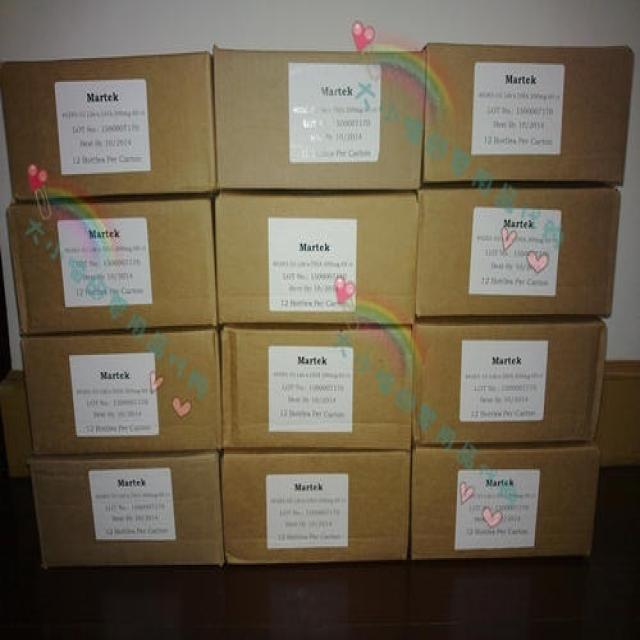box: (0, 53, 218, 201), (212, 46, 426, 189), (420, 43, 635, 184), (4, 201, 218, 338), (215, 189, 417, 328), (415, 188, 622, 317), (20, 326, 220, 459), (220, 324, 415, 451), (413, 321, 608, 444), (29, 449, 221, 567), (220, 452, 411, 567), (412, 447, 598, 560)
